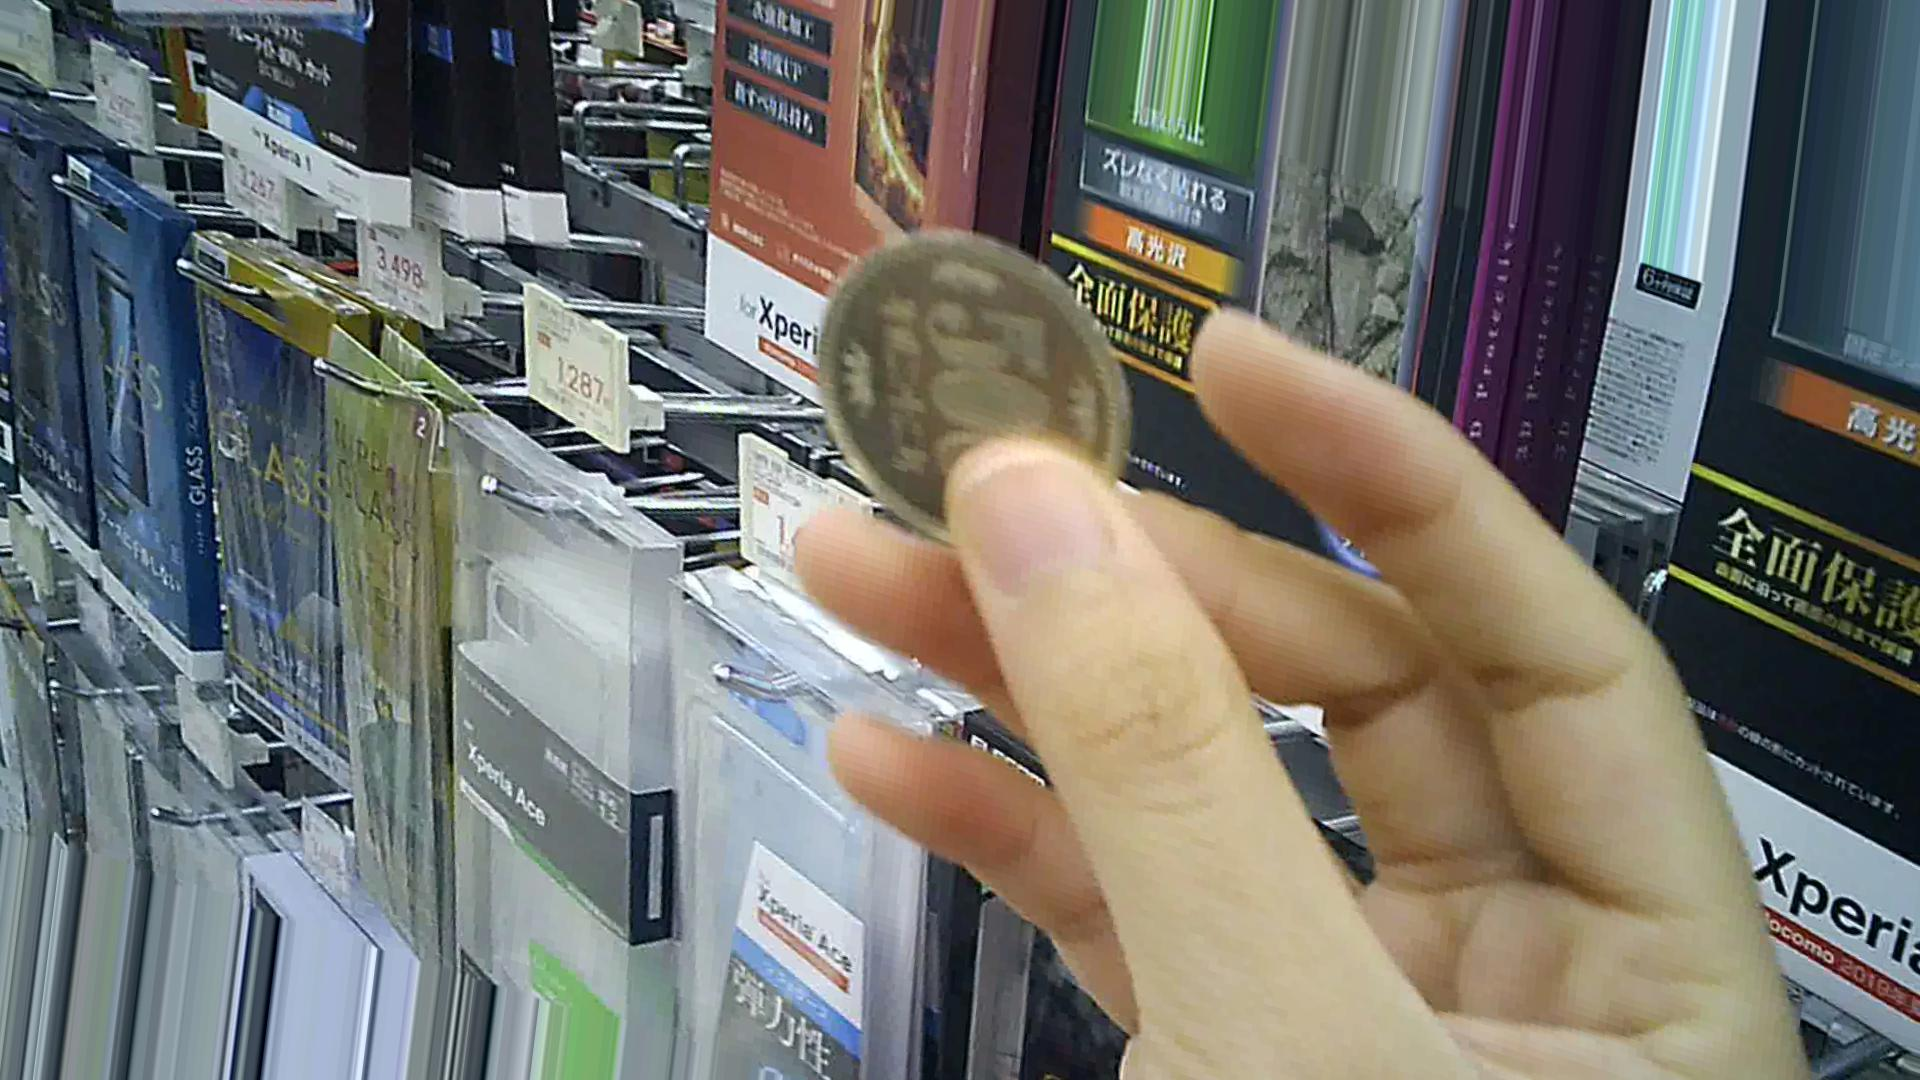500 Yen: (811, 219, 1130, 524)
